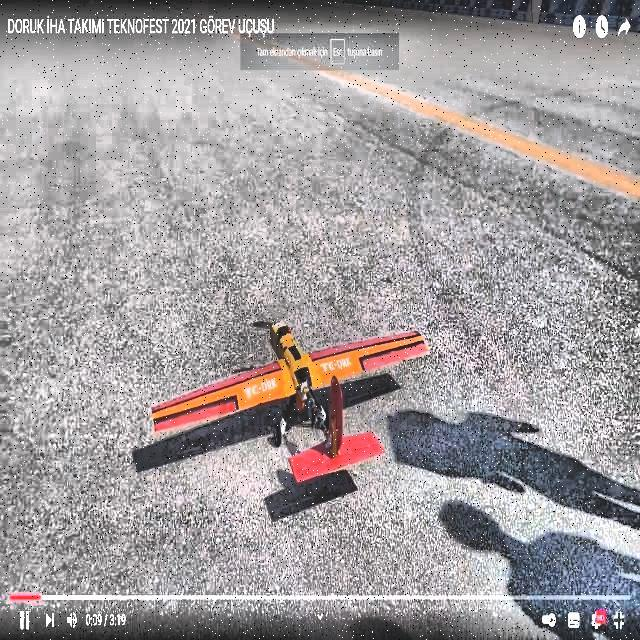iha: (141, 291, 432, 502)
